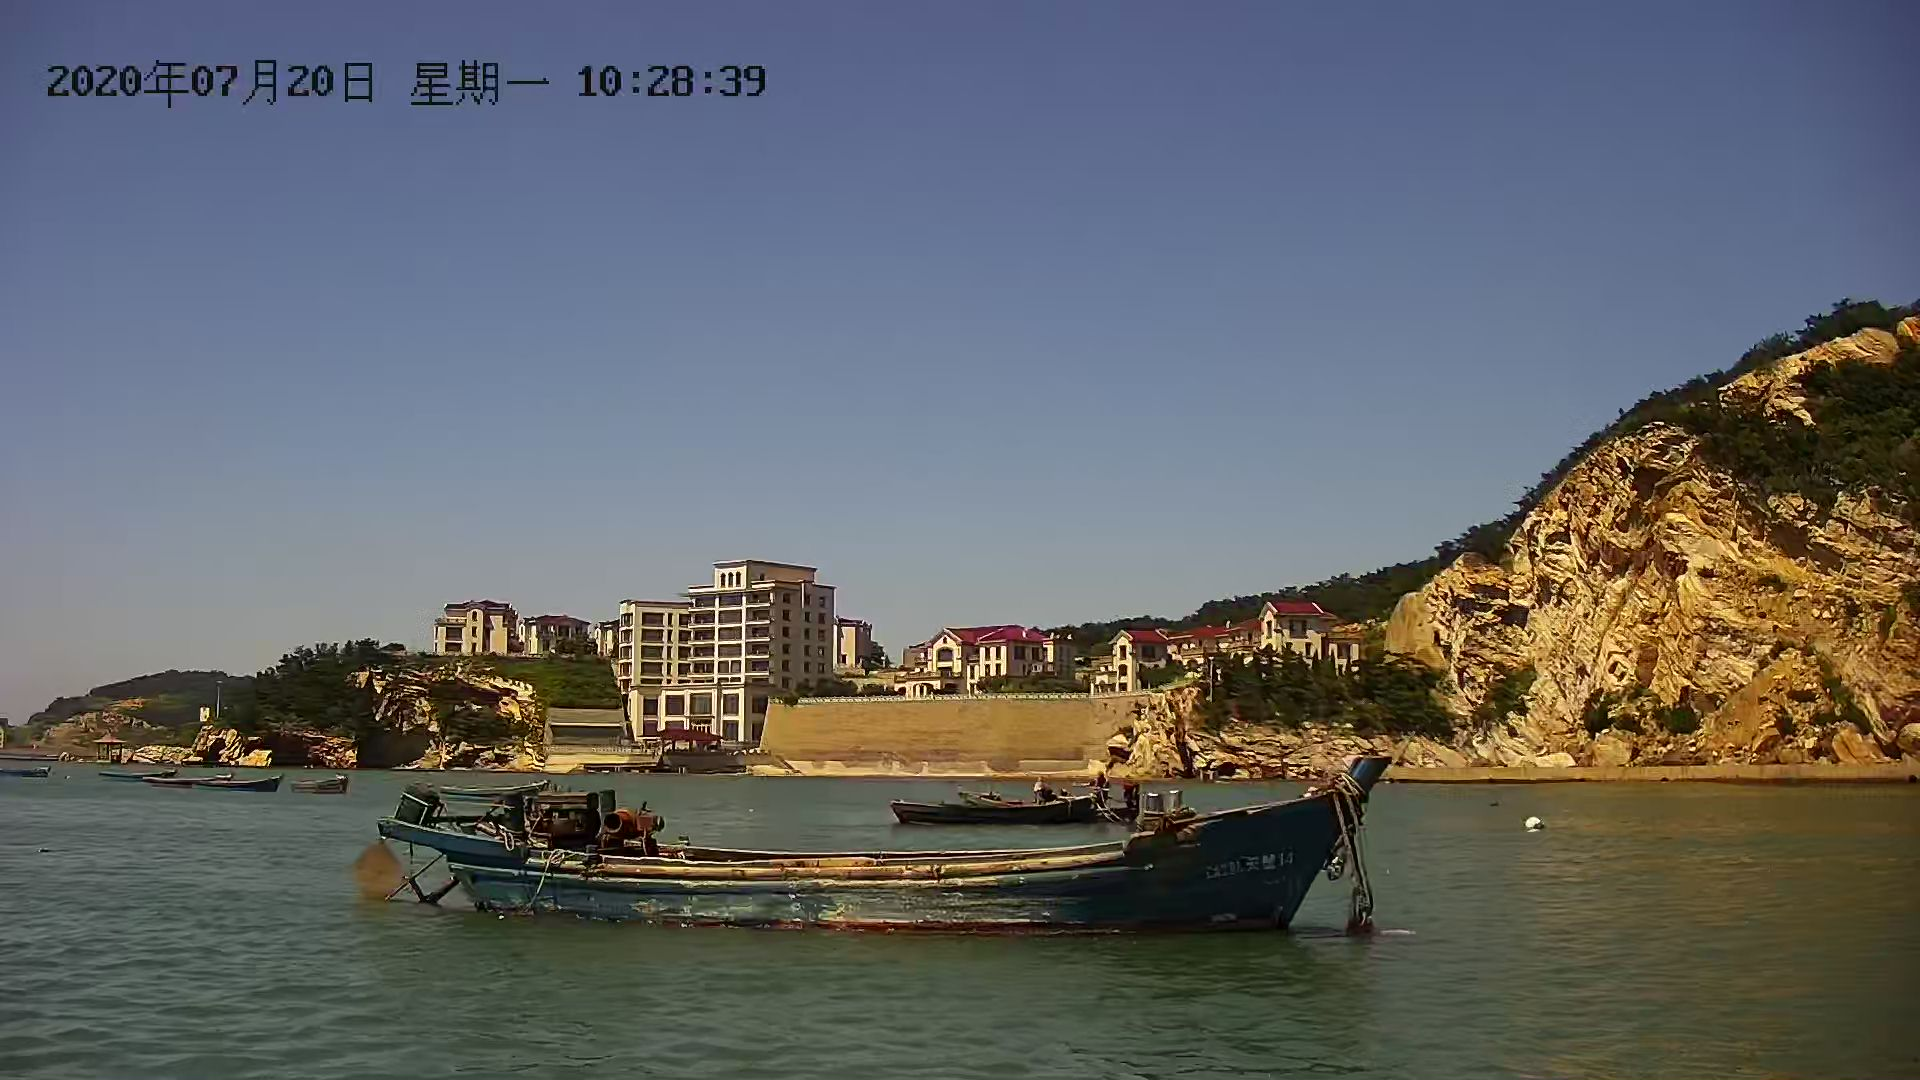boat: (382, 748, 1393, 965), (891, 777, 1129, 829), (210, 774, 291, 800), (104, 764, 186, 787), (291, 777, 352, 802)
rubbish: (1520, 808, 1553, 837)
